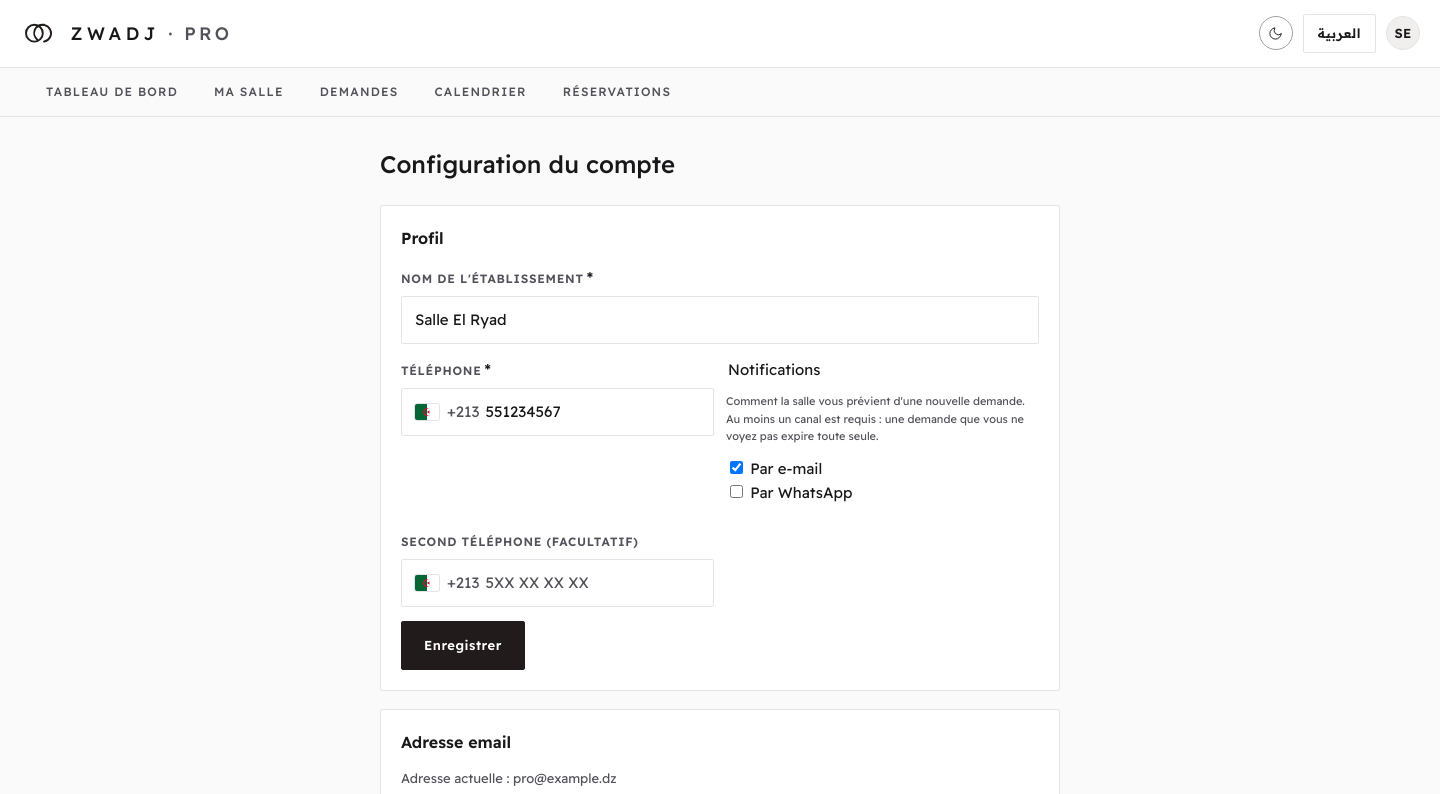
Test case: Canaux de notification — D60 › décocher LES DEUX annonce le refus AVANT d'envoyer
// Le SMS est déjà décoché sur PRO_USER : couper l'e-mail coupe tout.
Click the checkbox labelled "Par e-mail": (736, 467) [730,461,743,474]
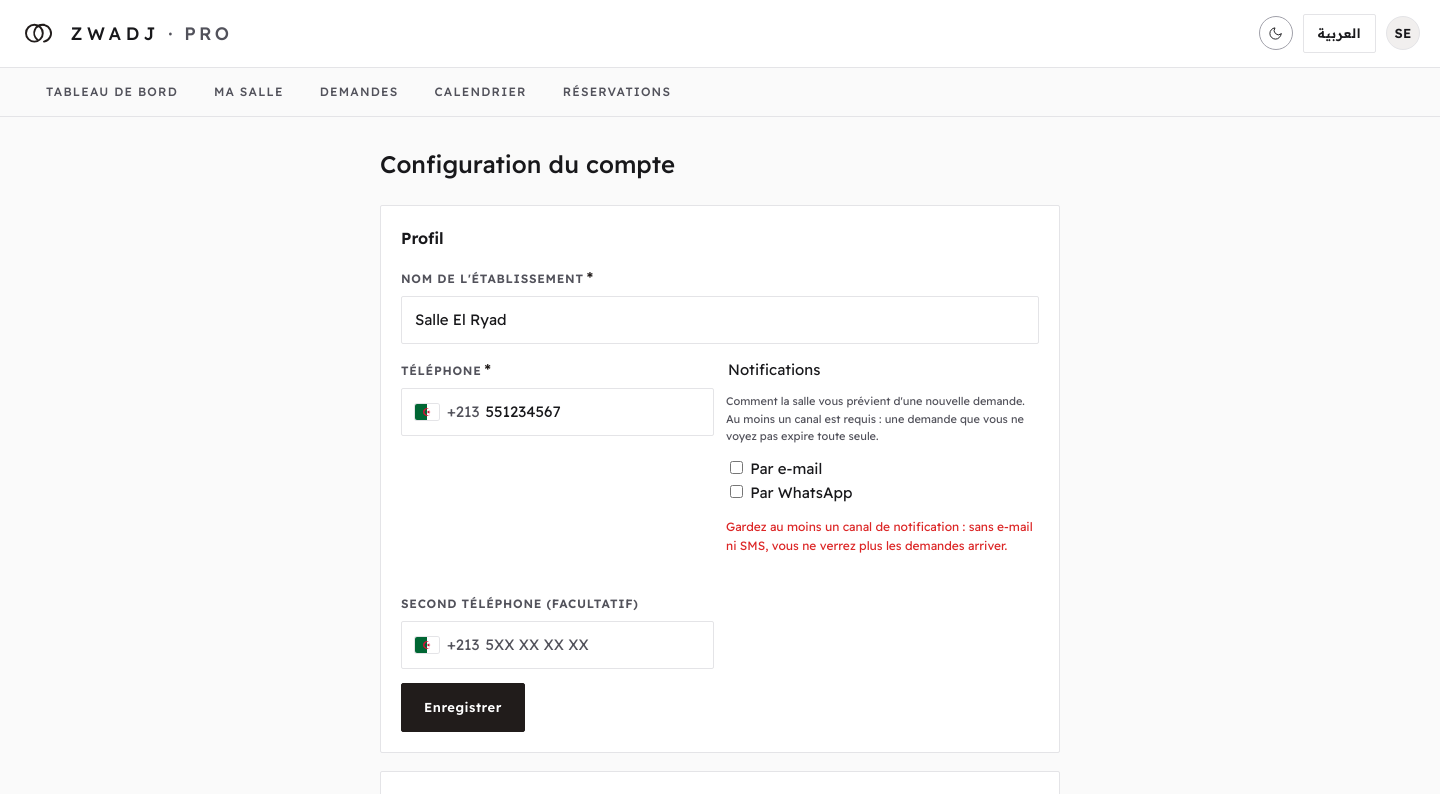
Result: the text "Gardez au moins un canal" is shown at [726,519,1033,553]
